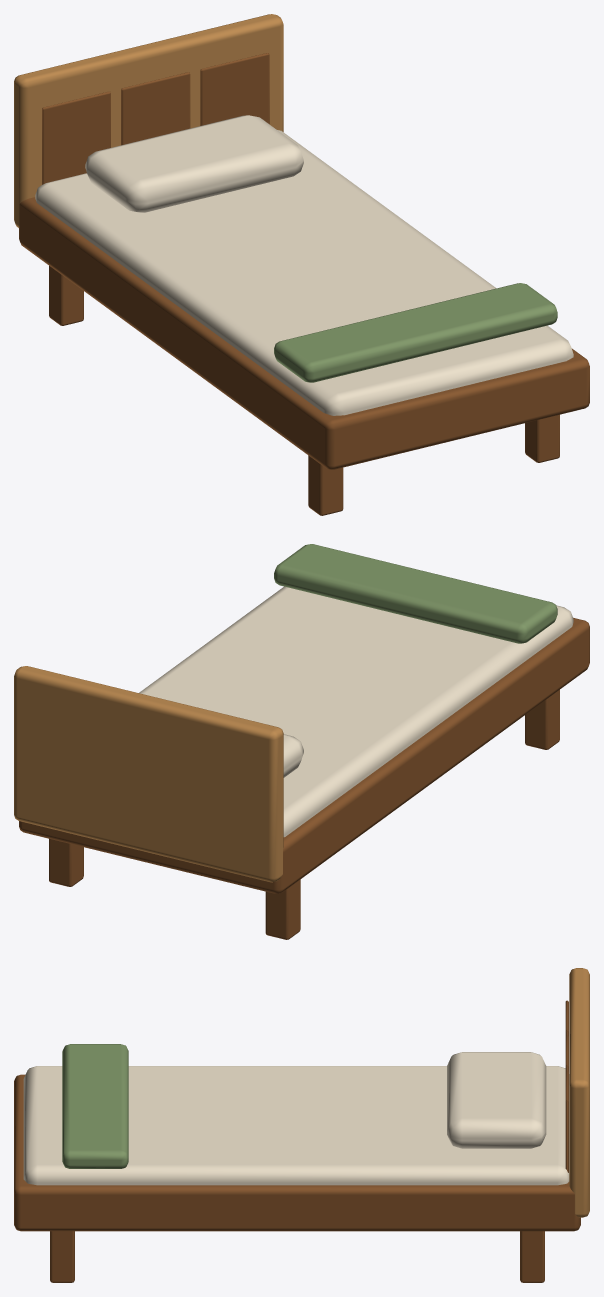
Rendered from PR_Bed.glb.
3 renders of one model, top to bottom at view 1: azimuth 30°, elevation 25°; view 2: azimuth 150°, elevation 25°; view 3: azimuth 270°, elevation 25°, orthographic. The views are drawn at different scales.
Visible parts, largest first — view 1: PR_Bed_LOD0; view 2: PR_Bed_LOD0; view 3: PR_Bed_LOD0.
Part boxes in pixels (box(x1,y1,x2,y2)): PR_Bed_LOD0: box(14, 14, 589, 515); PR_Bed_LOD0: box(14, 544, 589, 939); PR_Bed_LOD0: box(14, 968, 589, 1282).
Bounding box in the file's own units: 1 × 0.825 × 2.08.
Materials: 1 (1 with a texture image).
